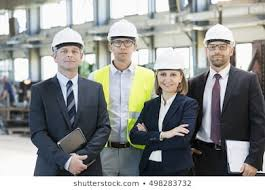Person_wearing_helmet: (46, 25, 83, 57), (104, 17, 140, 48), (150, 48, 184, 77), (200, 21, 236, 48)
